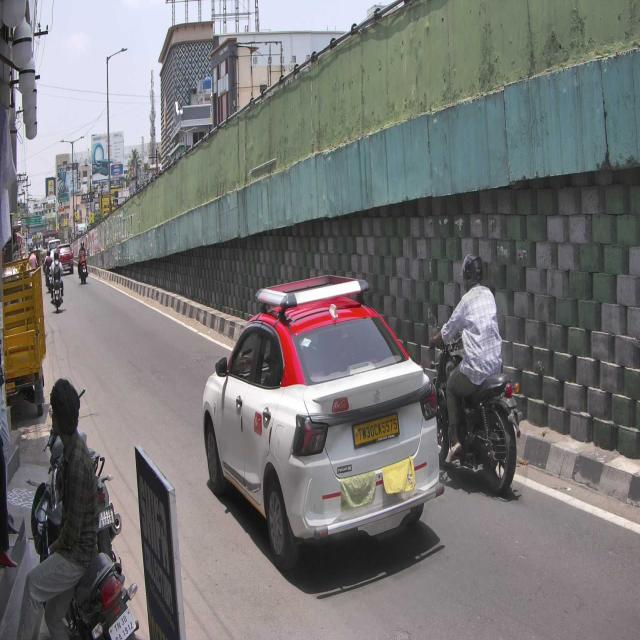single_rider: (427, 252, 526, 498)
